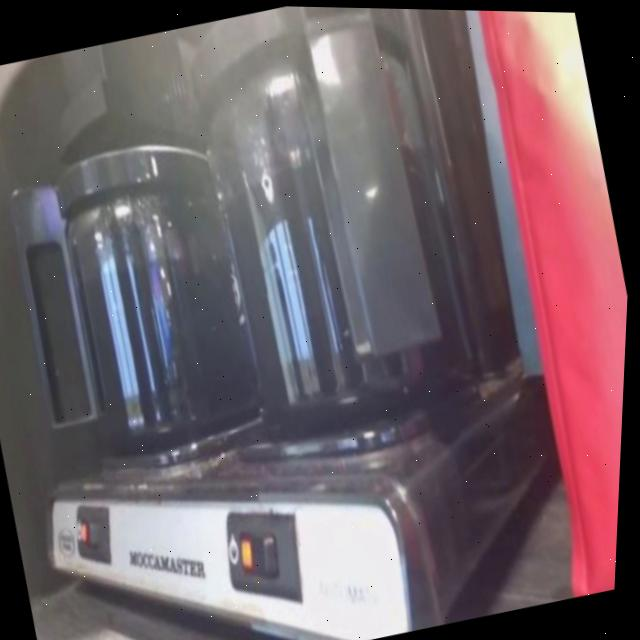coffee: (195, 76, 490, 432), (63, 187, 271, 454)
